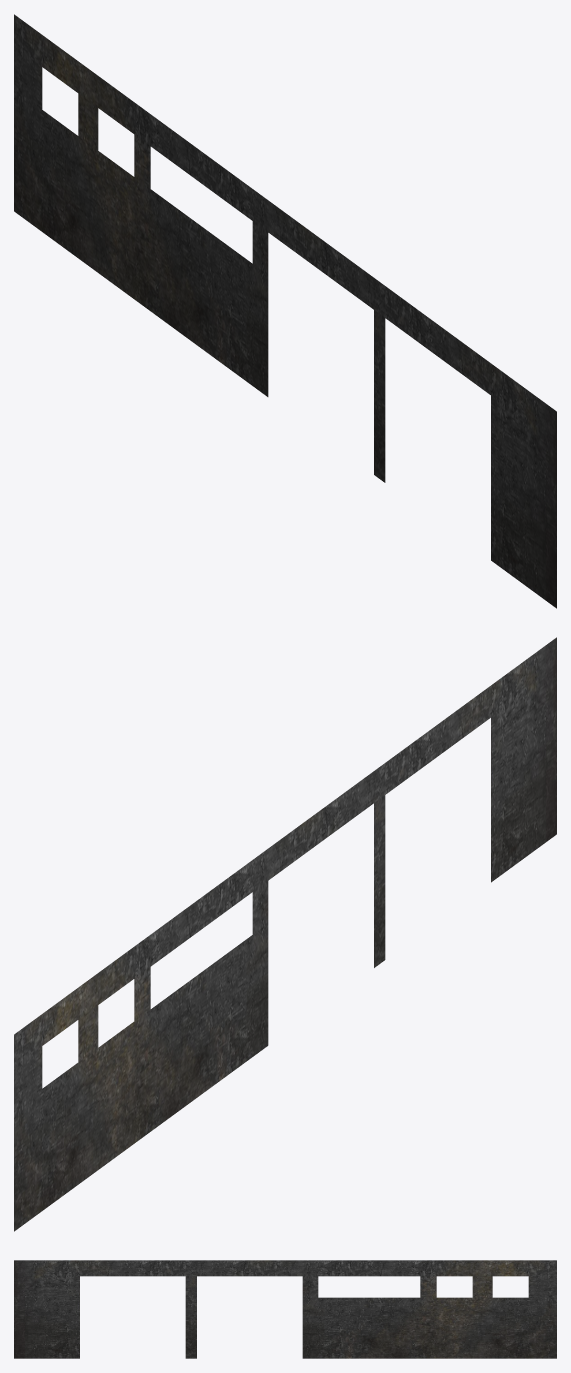
Rendered from Wall_08.FBX.
3 views of the same model, one above another, from view 1: azimuth 30°, elevation 25°; view 2: azimuth 150°, elevation 25°; view 3: azimuth 270°, elevation 25° (orthographic). The views are drawn at different scales.
Parts seen in each view (by area): view 1: Wall_08; view 2: Wall_08; view 3: Wall_08.
Boxes of the visible parts, <box> form: Wall_08: <box>14,14,556,608</box>; Wall_08: <box>14,637,556,1231</box>; Wall_08: <box>14,1260,556,1358</box>.
Bounding box in the file's own units: 0.00146 × 612 × 3053.
